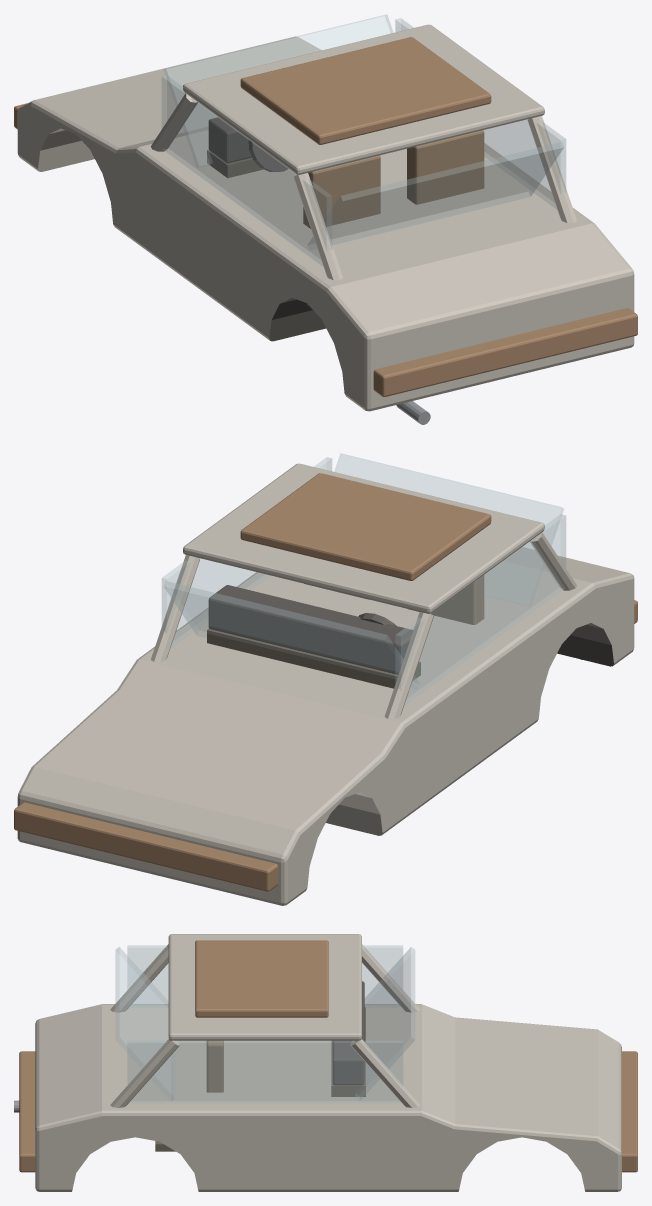
The model's file is scavenger.glb.
3 views of the same model, one above another, from view 1: azimuth 30°, elevation 25°; view 2: azimuth 150°, elevation 25°; view 3: azimuth 270°, elevation 25° (orthographic). The views are drawn at different scales.
Visible parts, largest first — view 1: body, roof_rack, roof, side_glass_-1, rear_glass, bumper_r, ws_glass, seat_back_1, side_glass_1, seat_back_0, c_pillar_-1, c_pillar_1 (+3 smaller); view 2: body, roof_rack, roof, side_glass_-1, ws_glass, dash, bumper_f, rear_glass, side_glass_1, cowl, a_pillar_-1, a_pillar_1 (+2 smaller); view 3: body, side_glass_1, roof, roof_rack, rear_glass, ws_glass, side_glass_-1, bumper_r, bumper_f, dash, c_pillar_1, a_pillar_1 (+4 smaller).
Part boxes in pixels (x1,y1,x2,y2): body: (17, 36, 634, 411); roof_rack: (240, 37, 491, 144); roof: (183, 24, 544, 174); side_glass_-1: (162, 75, 331, 266); rear_glass: (307, 142, 563, 250); bumper_r: (373, 308, 637, 396); ws_glass: (164, 14, 393, 167); seat_back_1: (407, 130, 484, 204); side_glass_1: (395, 18, 565, 209); seat_back_0: (303, 155, 380, 228); c_pillar_-1: (294, 173, 342, 280); c_pillar_1: (527, 116, 576, 223); body: (17, 547, 634, 905); roof_rack: (240, 473, 491, 580); roof: (183, 463, 544, 613); side_glass_-1: (395, 514, 565, 705); ws_glass: (164, 581, 420, 689); dash: (208, 585, 413, 674); bumper_f: (14, 802, 278, 891); rear_glass: (334, 453, 563, 606); side_glass_1: (162, 457, 331, 648); cowl: (207, 628, 420, 688); a_pillar_-1: (384, 612, 433, 719); a_pillar_1: (150, 555, 199, 662); body: (35, 1004, 621, 1191); side_glass_1: (127, 1041, 402, 1102); roof: (168, 934, 361, 1040); roof_rack: (195, 940, 328, 1017); rear_glass: (115, 947, 174, 1101); ws_glass: (355, 947, 414, 1101); side_glass_-1: (127, 945, 402, 1007); bumper_r: (19, 1051, 35, 1172); bumper_f: (622, 1051, 637, 1172); dash: (332, 981, 364, 1085); c_pillar_1: (110, 1039, 180, 1107); a_pillar_1: (350, 1039, 420, 1107).
Size of the model in its own units: 1.95 by 1.44 by 4.68.
